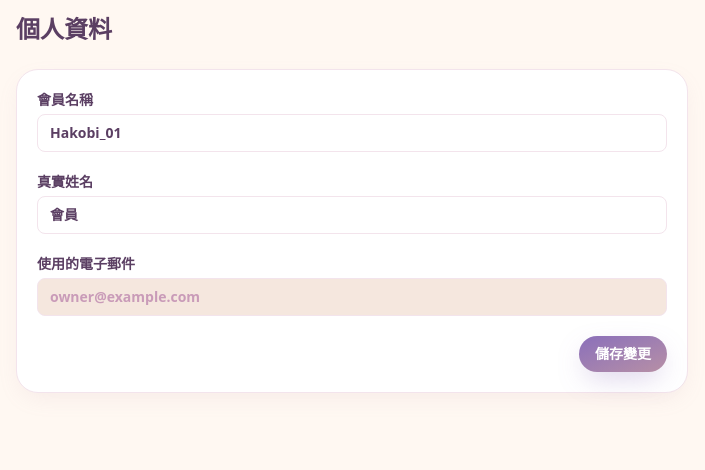
Test: Profile view › keeps the submitted form and confirmed store state after a generic failure
Replace the text in the field with test id "profile-username" with "Hakobi_02" at (352, 133), box [37,114,667,152]
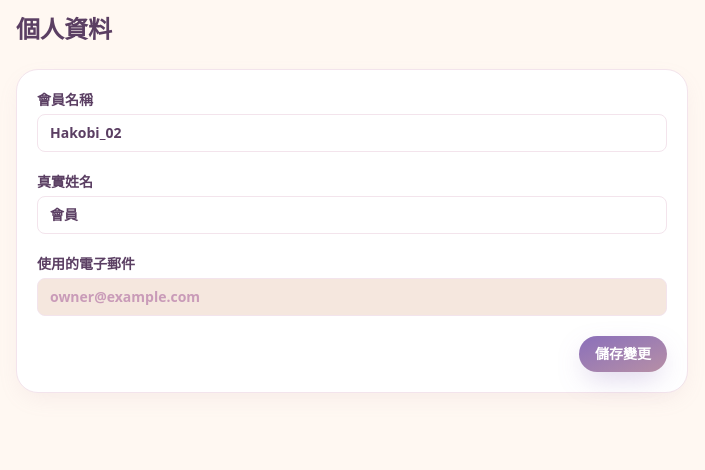
Replace the text in the field with test id "profile-display-name" with "王小明" at (352, 215), box [37,196,667,234]
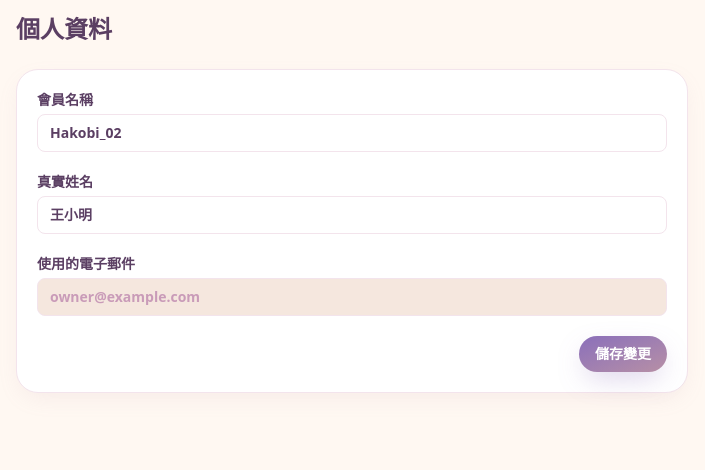
Submit the form, box [37,90,667,372]
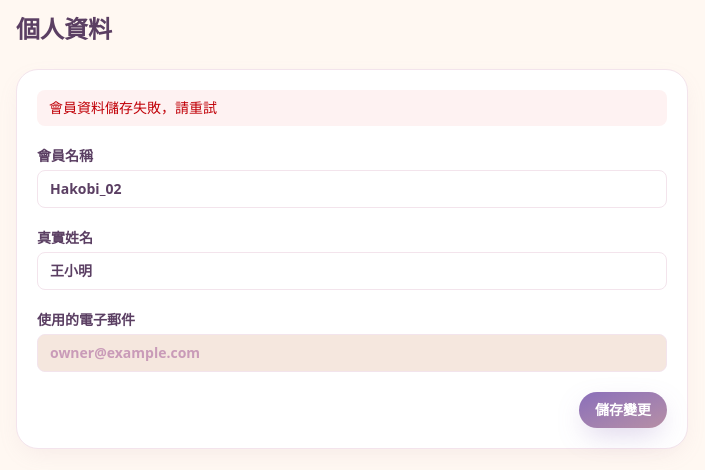
Expected: the text "會員資料儲存失敗，請重試" is shown, [37,90,667,126]
